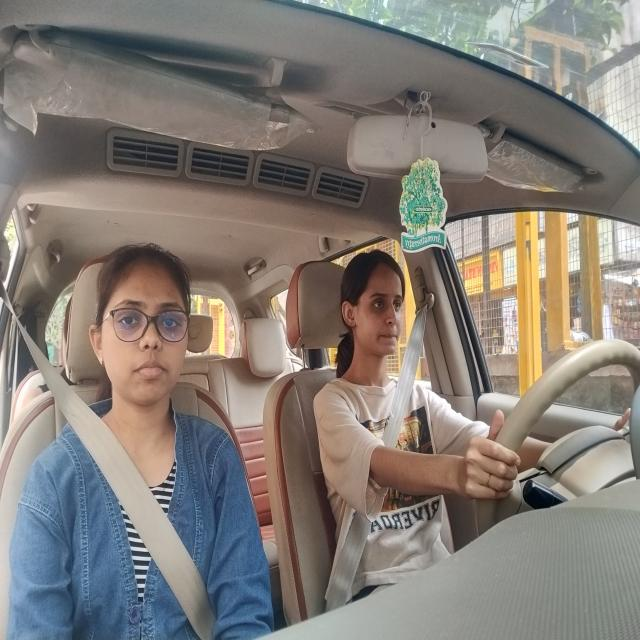person: (91, 261, 186, 394), (348, 251, 416, 363)
